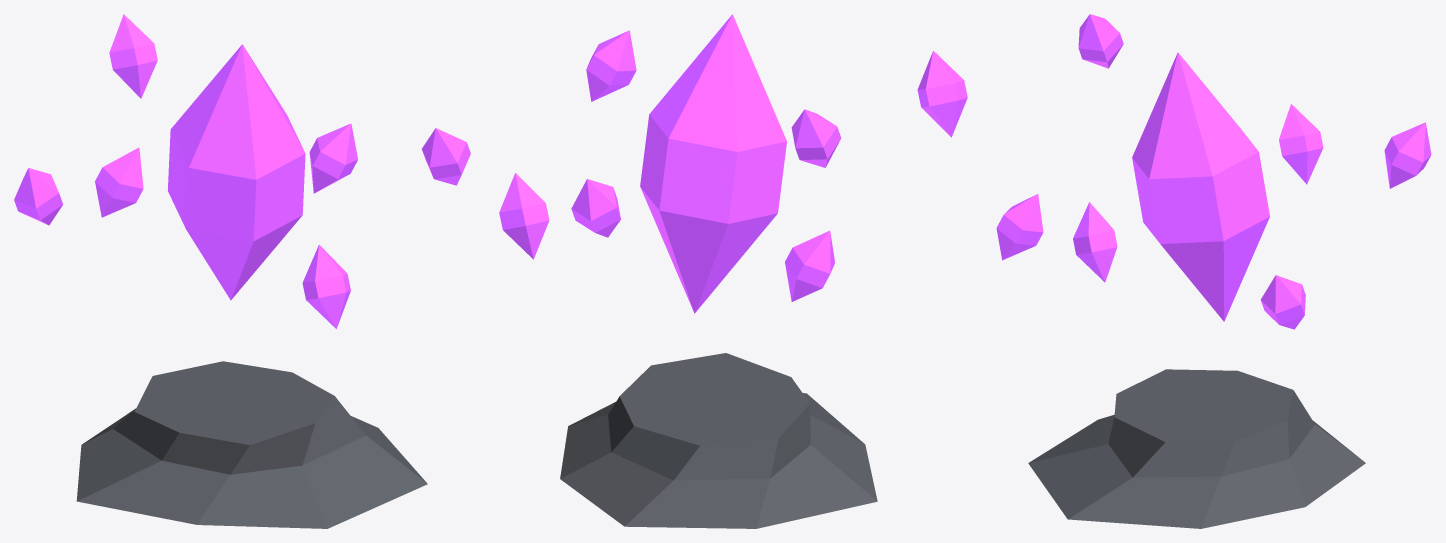
The model's file is PROP_09_FloatingMagicCrystal.fbx.
3 renders of one model, left to right at view 1: azimuth 30°, elevation 25°; view 2: azimuth 150°, elevation 25°; view 3: azimuth 270°, elevation 25°, orthographic. The views are drawn at different scales.
Parts seen in each view (by area): view 1: PROP_09_FloatingMagicCrystal; view 2: PROP_09_FloatingMagicCrystal; view 3: PROP_09_FloatingMagicCrystal.
Part boxes in pixels (left/top/right/bottom): PROP_09_FloatingMagicCrystal: left=14, top=14, right=470, bottom=528; PROP_09_FloatingMagicCrystal: left=499, top=14, right=967, bottom=528; PROP_09_FloatingMagicCrystal: left=996, top=14, right=1431, bottom=528.
Size of the model in its own units: 218 by 244 by 236.
